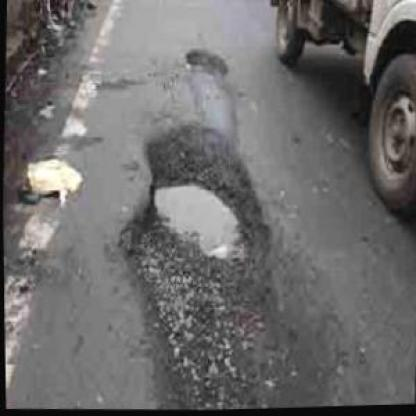pothole: (114, 118, 276, 408), (183, 46, 230, 78)
